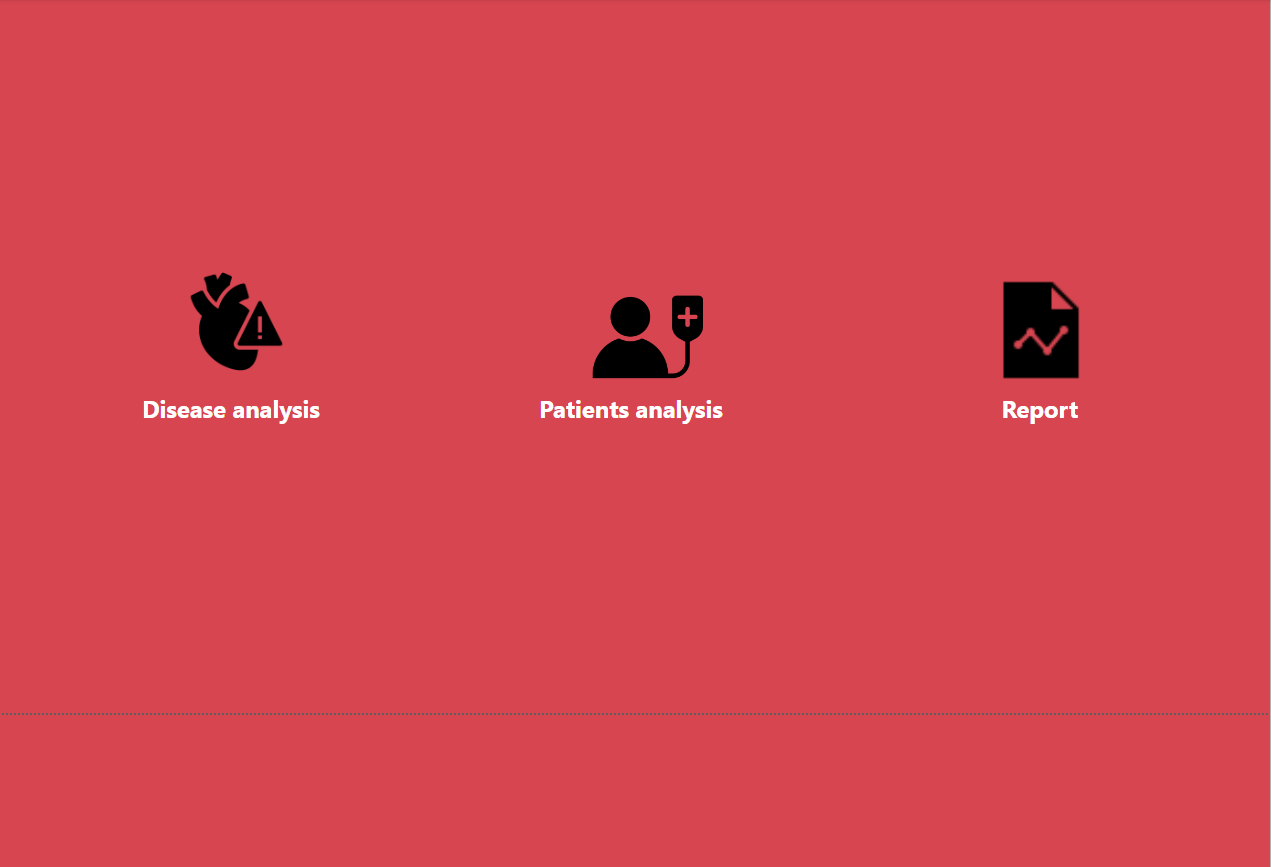

Layout of this report page (visuals, bound fields, positions):
{"tool":"powerbi","page":{"name":"Home","canvas":[1280,720],"ordinal":0},"visuals":[{"type":"image","box":[174.4,258,128,133],"z":0},{"type":"image","box":[574.5,258,157.2,164.3],"z":1000},{"type":"image","box":[991.7,276.2,114.9,114.9],"z":2000},{"type":"textbox","box":[138.1,391.1,200.6,61.5],"z":3000},{"type":"textbox","box":[538.2,391.1,202.6,61.5],"z":4000},{"type":"textbox","box":[964.5,391.1,200.6,61.5],"z":5000}]}

Visuals, with their boxes on the page's 1280x720 design canvas (x1, y1, x2, y2). These are canvas units, not pixel positions in the 1271x867 screenshot, which may show the page scaled, cropped or inside an application window:
image: 174/258/302/391
image: 574/258/732/422
image: 992/276/1107/391
textbox: 138/391/339/453
textbox: 538/391/741/453
textbox: 964/391/1165/453
